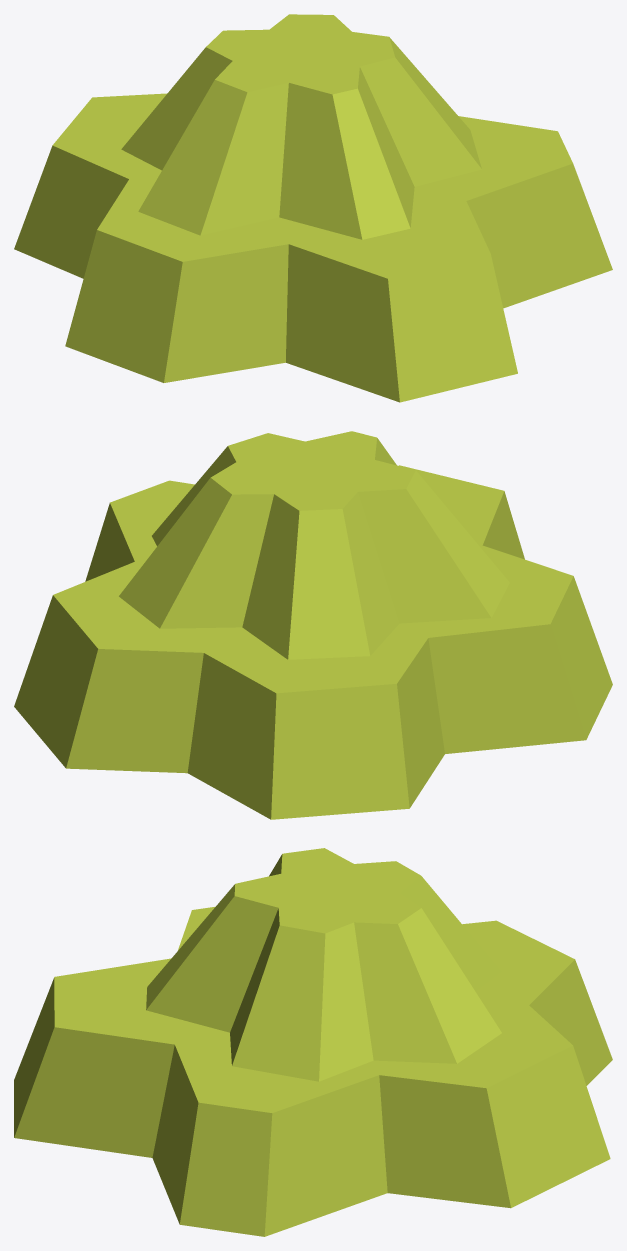
File: seestern-anim.fbx
3 renders of one model, top to bottom at view 1: azimuth 30°, elevation 25°; view 2: azimuth 150°, elevation 25°; view 3: azimuth 270°, elevation 25°, orthographic.
Parts seen in each view (by area): view 1: Cube; view 2: Cube; view 3: Cube.
Boxes of the visible parts, x1,y1,x2,y2 form: Cube: [14, 14, 612, 402]; Cube: [14, 431, 612, 819]; Cube: [14, 848, 612, 1236].
Bounding box in the file's own units: 535 × 216 × 539.
